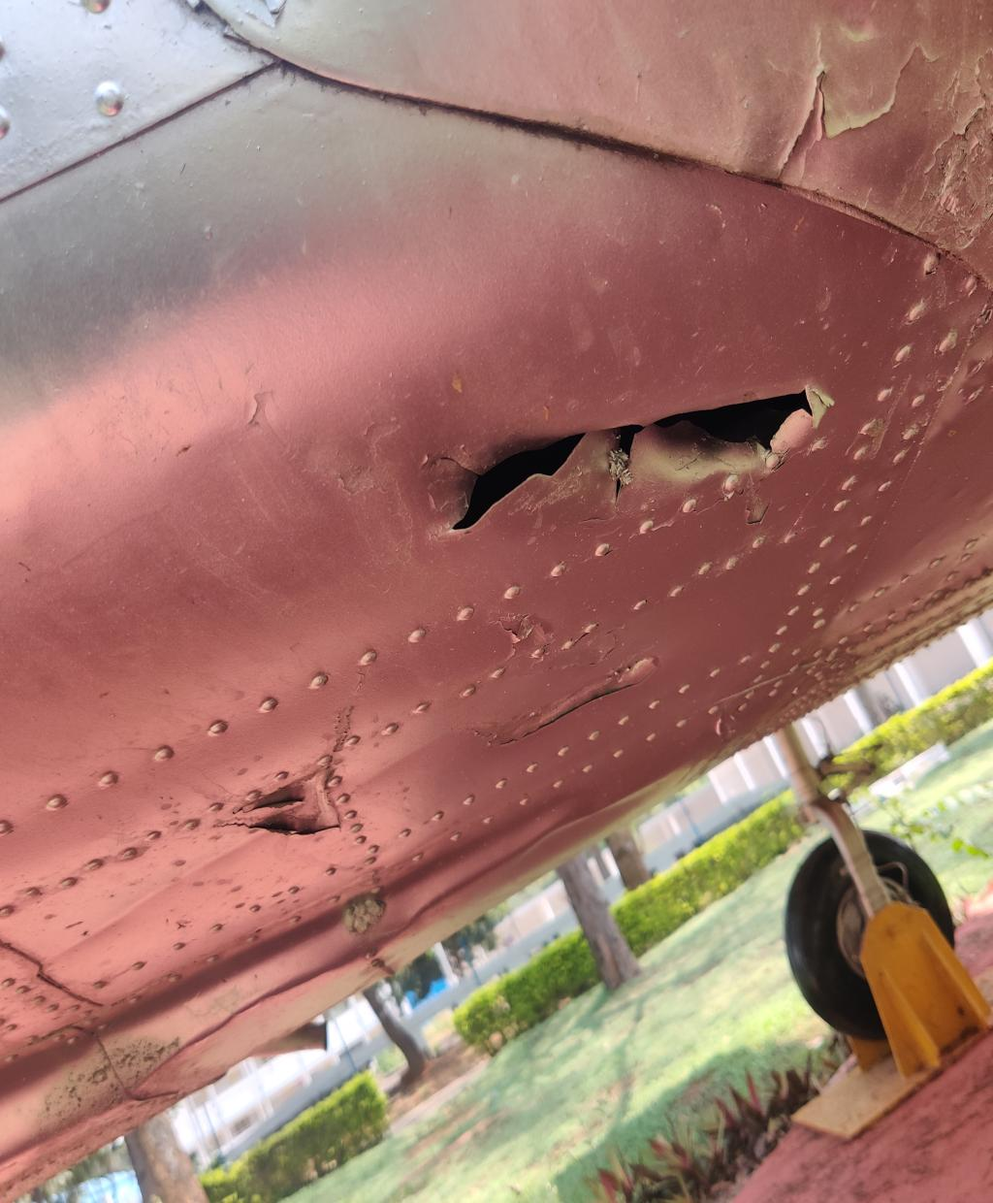corrosion: (237, 754, 349, 862)
crack: (414, 333, 847, 547)
